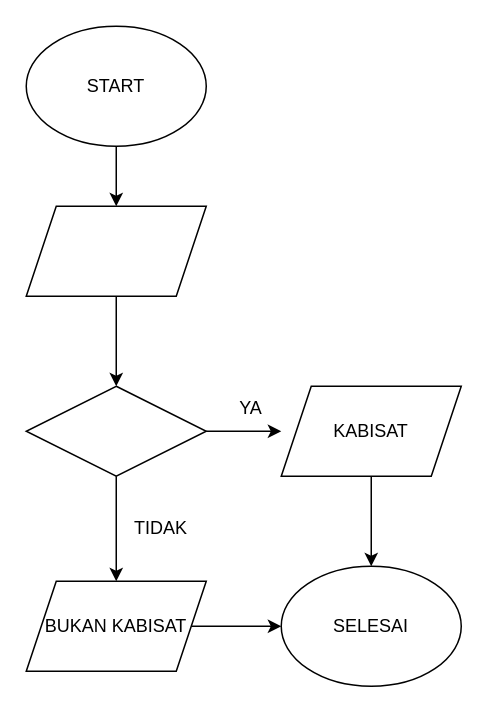
Some shapes in this 488 by 713 pixel diagram are drawn without their labels. The shapes that lost their labels are listed below. From the top down, each one's centre as x and y in pixels, then its label:
pixel 115 250: TAHUN
pixel 115 430: APAKAH TAHUN / 4 = 0
